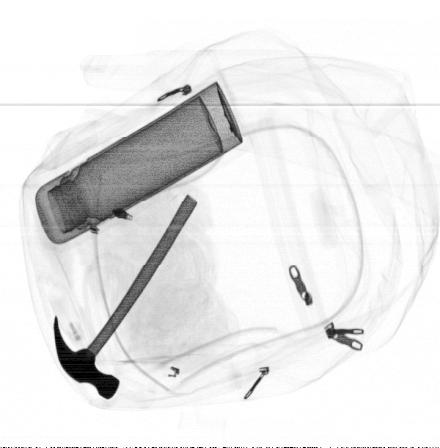Hammer: (52, 193, 199, 403)
